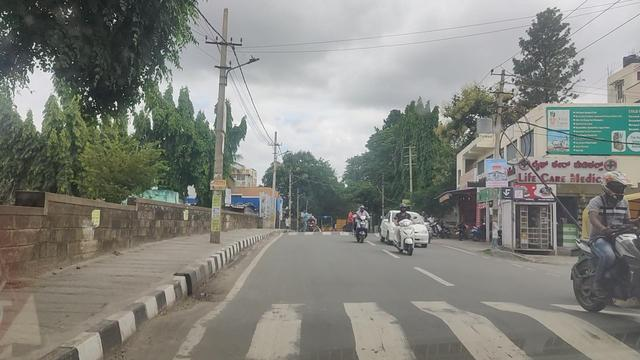LMV: (395, 201, 421, 259)
SpeedBump: (190, 307, 640, 357)
